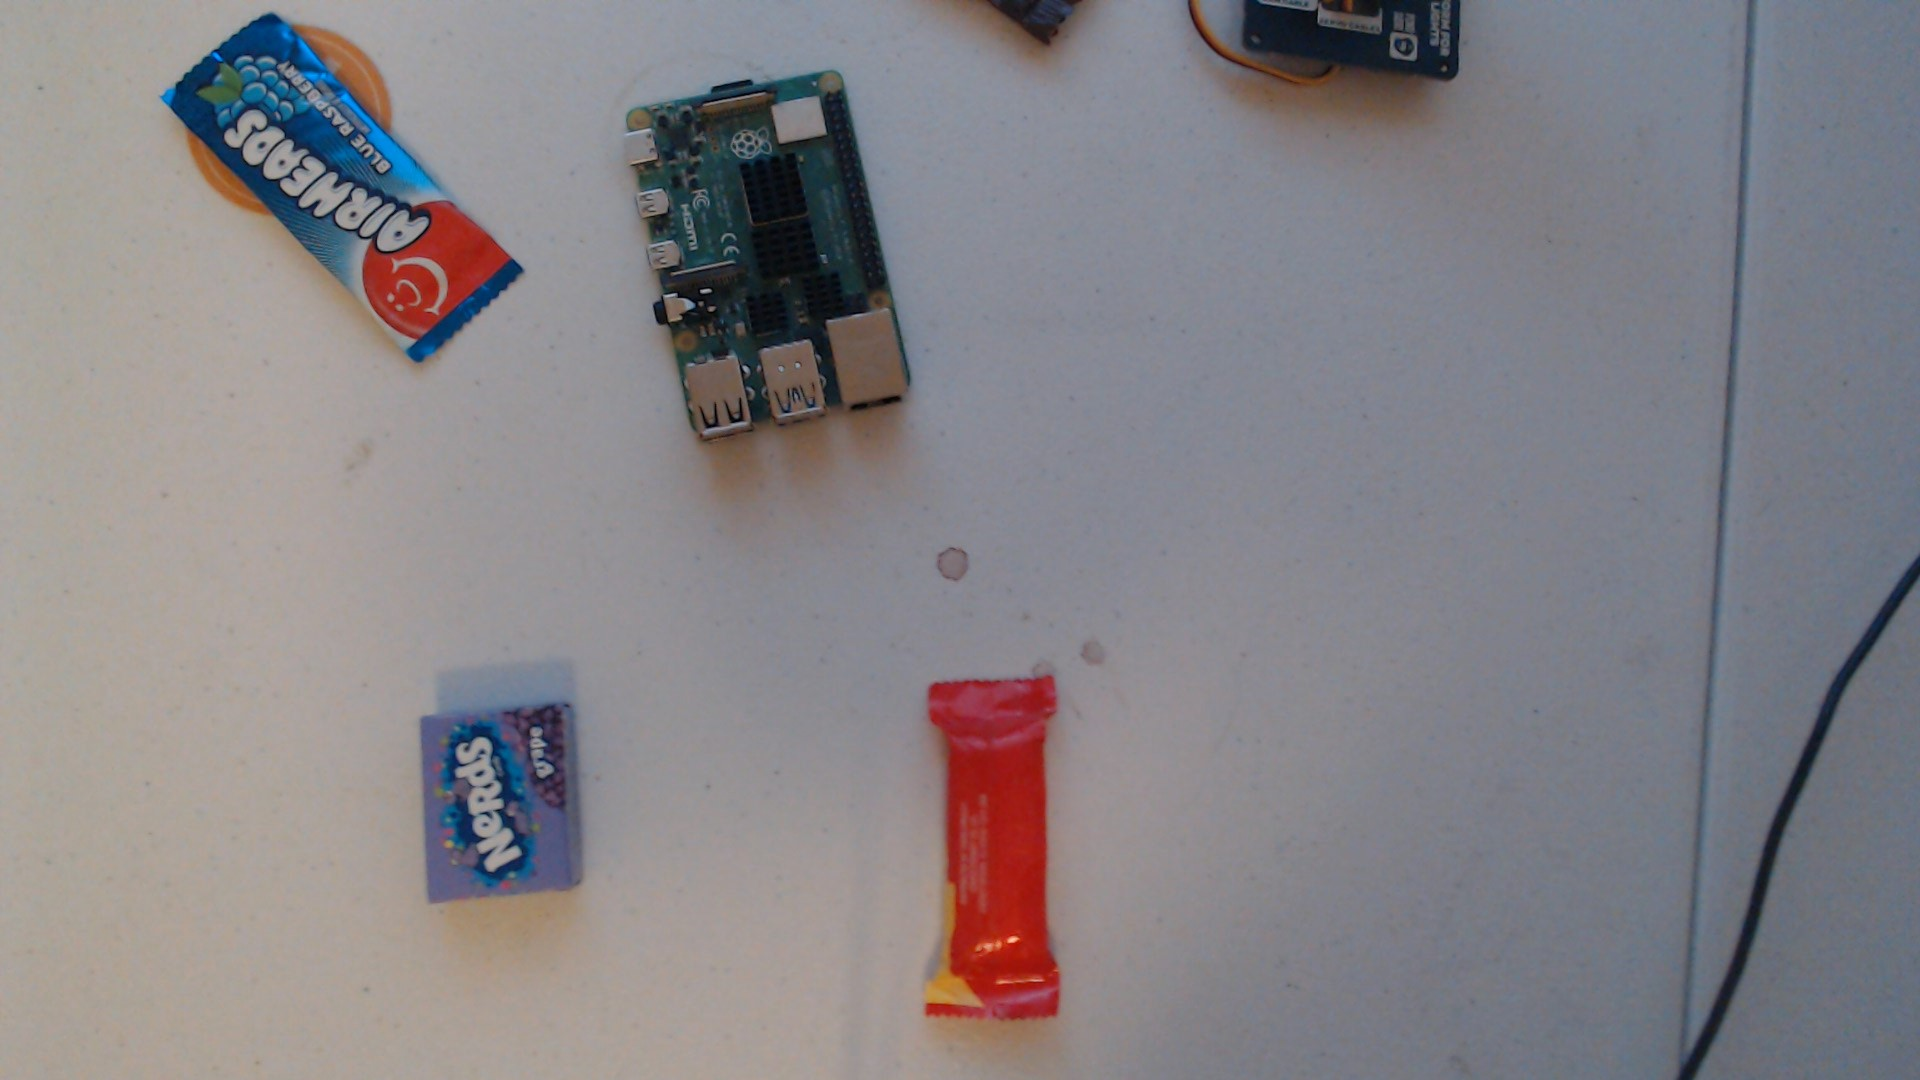airheads: (135, 0, 564, 404)
nerds: (396, 694, 636, 944)
starbust: (905, 641, 1088, 1021)
